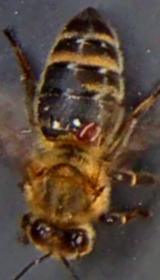varroa_mite: (74, 116, 108, 144)
